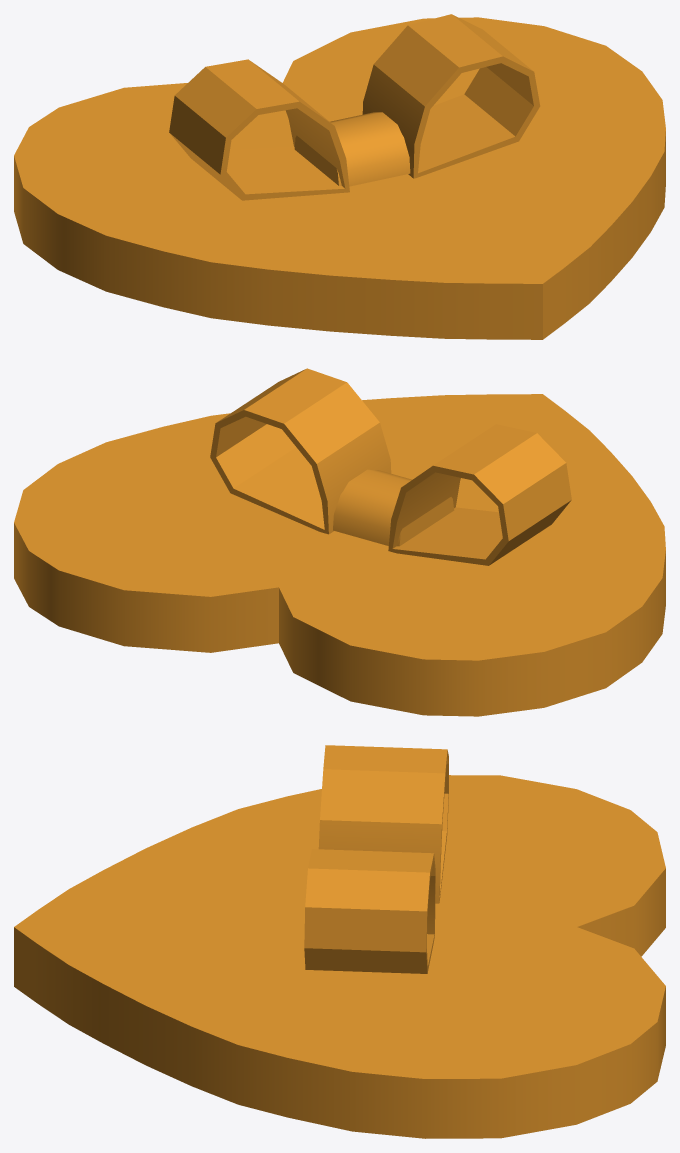
The model's file is Bomboniera_gora.fbx.
3 views of the same model, one above another, from view 1: azimuth 30°, elevation 25°; view 2: azimuth 150°, elevation 25°; view 3: azimuth 270°, elevation 25° (orthographic). The views are drawn at different scales.
Parts seen in each view (by area): view 1: bomboniera_gora_LOD0; view 2: bomboniera_gora_LOD0; view 3: bomboniera_gora_LOD0.
Boxes of the visible parts, left/top/right/bottom form: bomboniera_gora_LOD0: left=14, top=14, right=665, bottom=339; bomboniera_gora_LOD0: left=14, top=368, right=665, bottom=716; bomboniera_gora_LOD0: left=14, top=745, right=665, bottom=1138.
Size of what is drawn, in the model's own units: 119 by 31 by 108.
